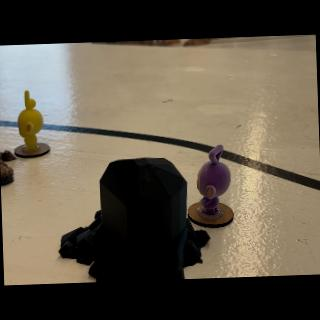teletubby: (197, 145, 231, 216), (18, 91, 43, 151)
